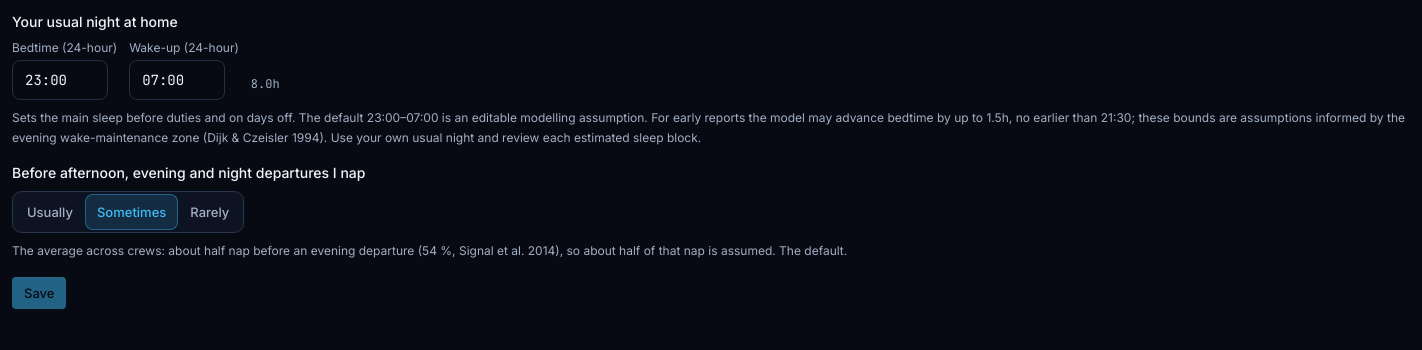
sleep preferences › refuses an impossible night before saving
Type "18:00" into the field labelled "Bedtime (24-hour)" at (60, 80), box [12,60,108,100]
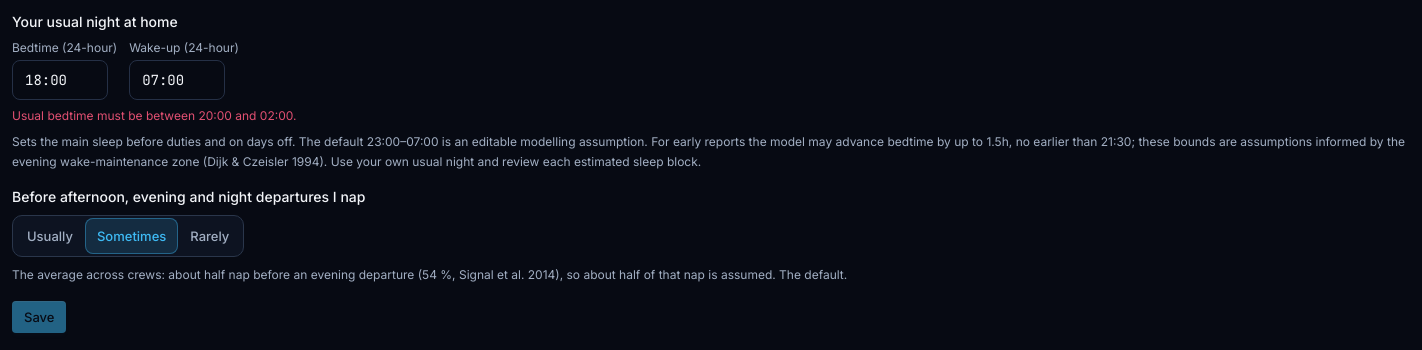
Expected: the button "Save" is disabled, [12,300,66,332]
Now the message shows "between 20:00 and 02:00", box [12,108,296,123]
